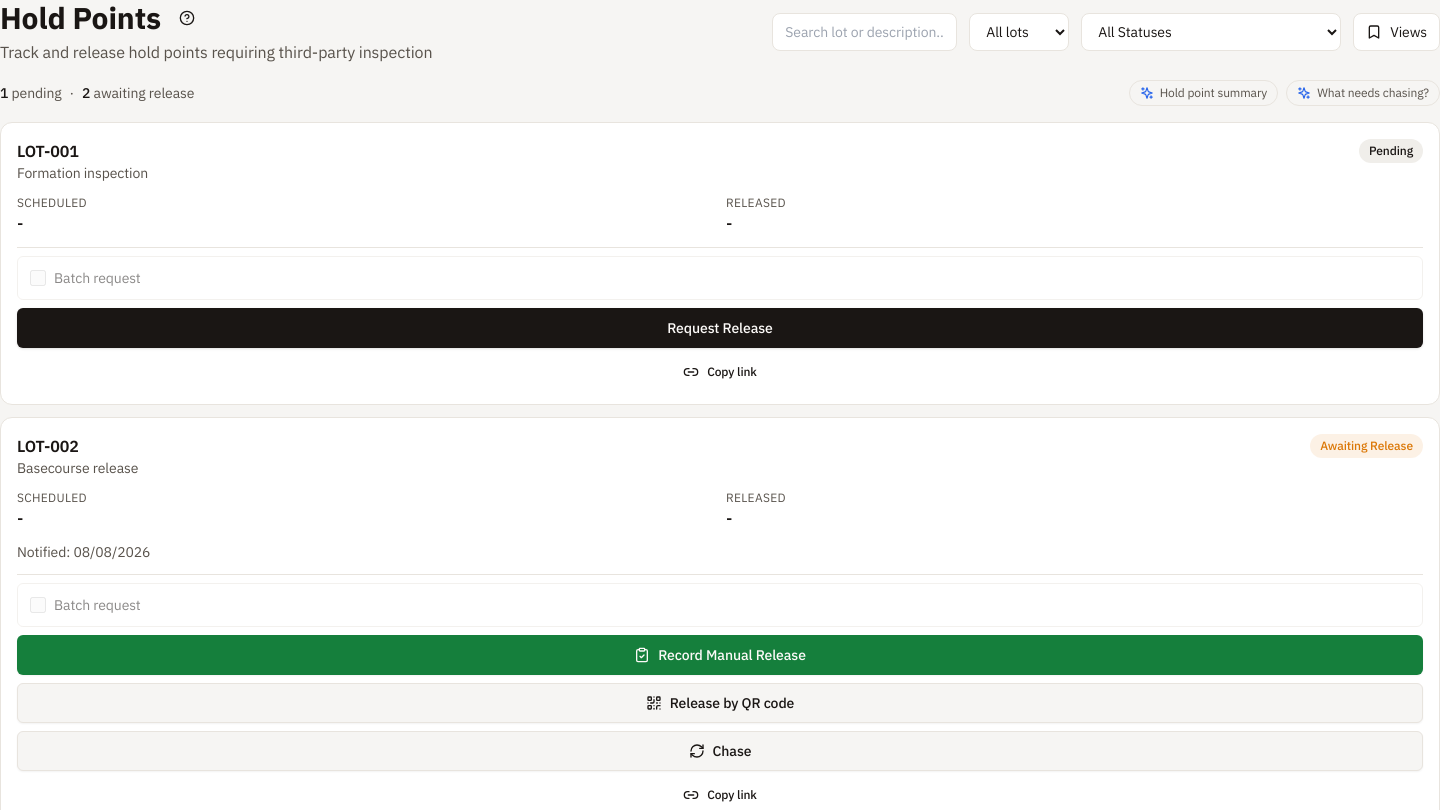
Test: HoldPointsPage register data layer › persists status filter changes to the URL
The width and height of the screenshot is (1440, 810).
Expected: the heading "LOT-001" is shown, x1=17 y1=141 x2=79 y2=161
Select "Released" in the dropdown named "Filter hold points by status": (1211, 32) x1=1081 y1=13 x2=1341 y2=51
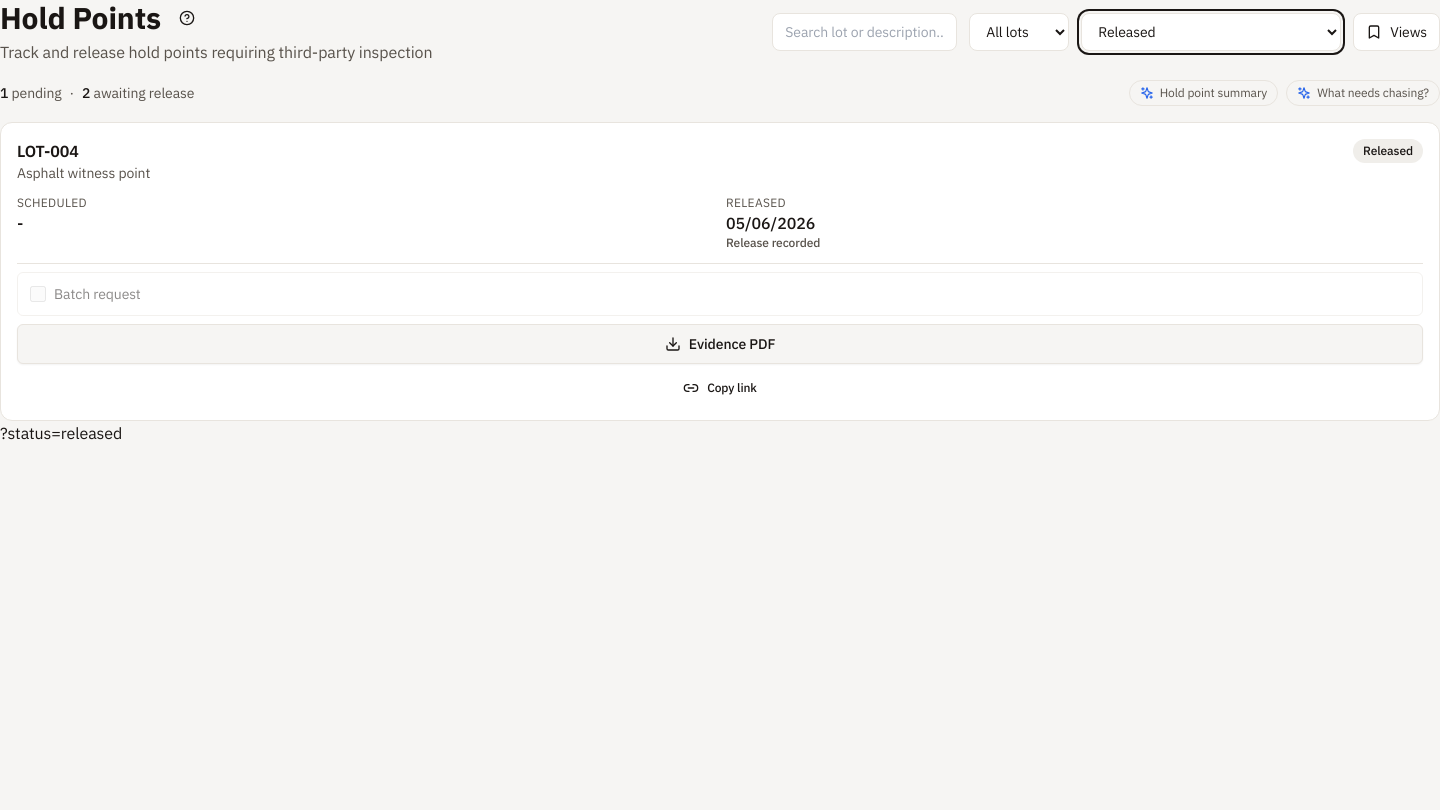
Expected: the heading "LOT-004" is shown, x1=17 y1=141 x2=79 y2=161
Result: the text with test id "location-search" reads "?status=released" at x1=0 y1=423 x2=122 y2=443
Result: the heading "LOT-001" is gone
